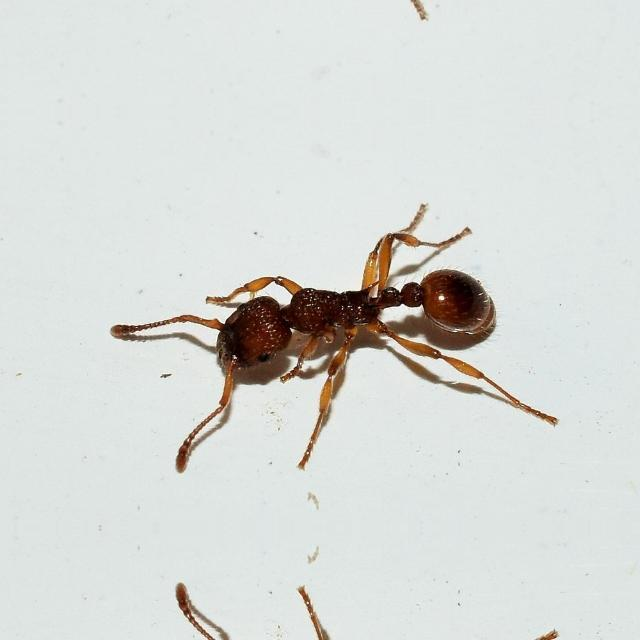Myrmica: (162, 210, 550, 456)
